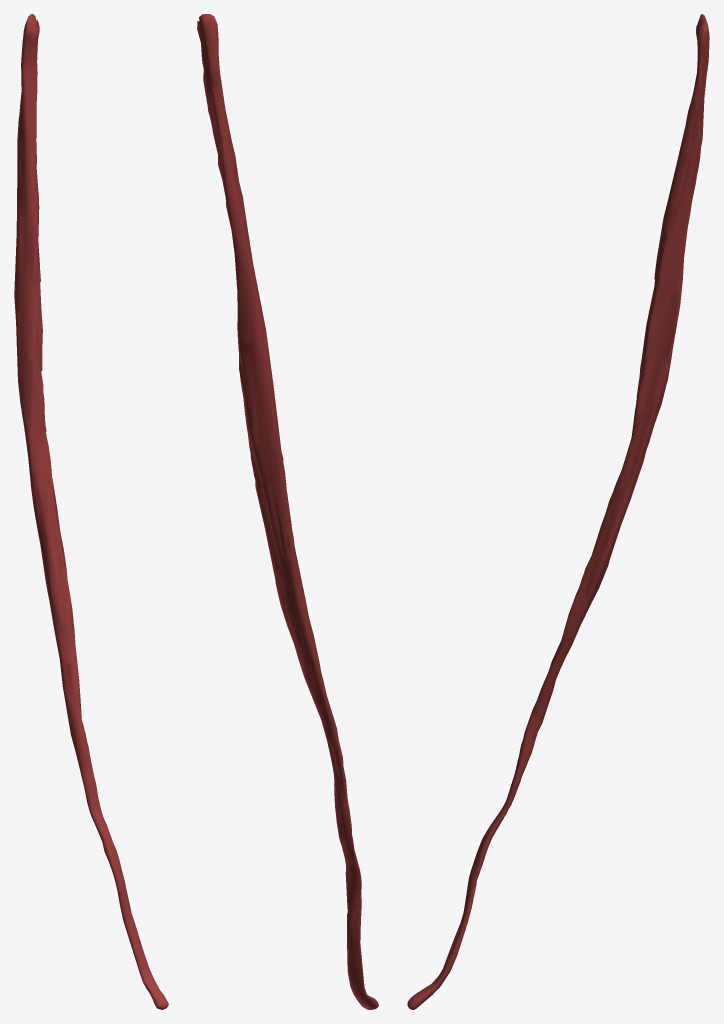
The model's file is extensor-digiti-minimi-r.glb.
3 views of the same model, side by side, from view 1: azimuth 30°, elevation 25°; view 2: azimuth 150°, elevation 25°; view 3: azimuth 270°, elevation 25° (orthographic). The views are drawn at different scales.
Parts seen in each view (by area): view 1: Extensor digiti minimi.r; view 2: Extensor digiti minimi.r; view 3: Extensor digiti minimi.r.
Part boxes in pixels (x1,y1,x2,y2): Extensor digiti minimi.r: (14, 14, 168, 1009); Extensor digiti minimi.r: (197, 14, 378, 1009); Extensor digiti minimi.r: (407, 14, 709, 1009).
Size of the model in its own units: 0.0168 by 0.3359 by 0.0926.
